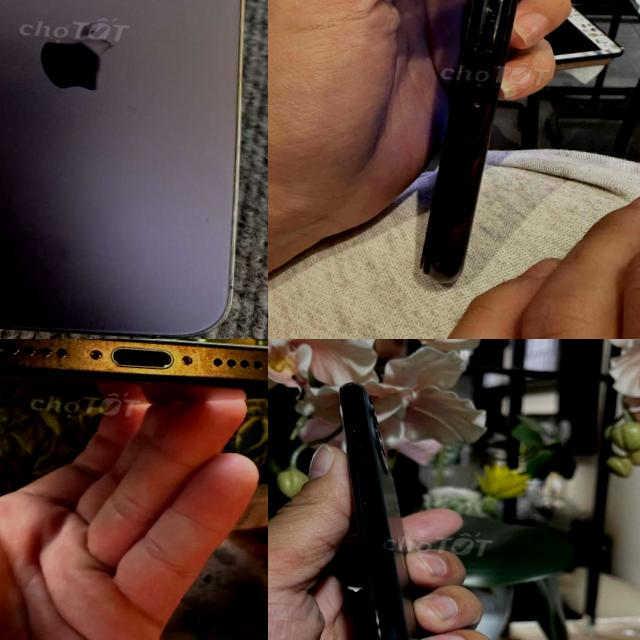gen_11: (412, 0, 569, 310), (339, 382, 422, 640)
gen_14: (0, 0, 268, 339)
gen_16: (0, 339, 268, 391)
scratch: (437, 104, 517, 200), (476, 0, 523, 77), (57, 339, 97, 365), (12, 354, 30, 376), (222, 339, 239, 361), (255, 347, 268, 368), (185, 339, 201, 356)
